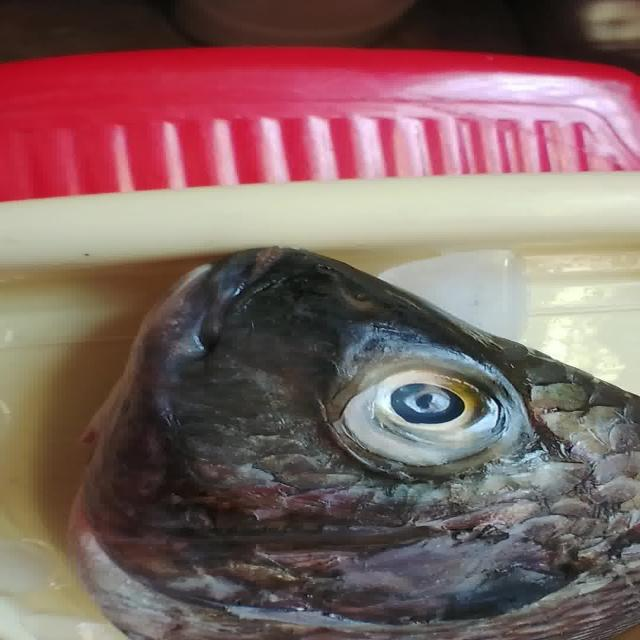Fresh: (316, 347, 538, 478)
